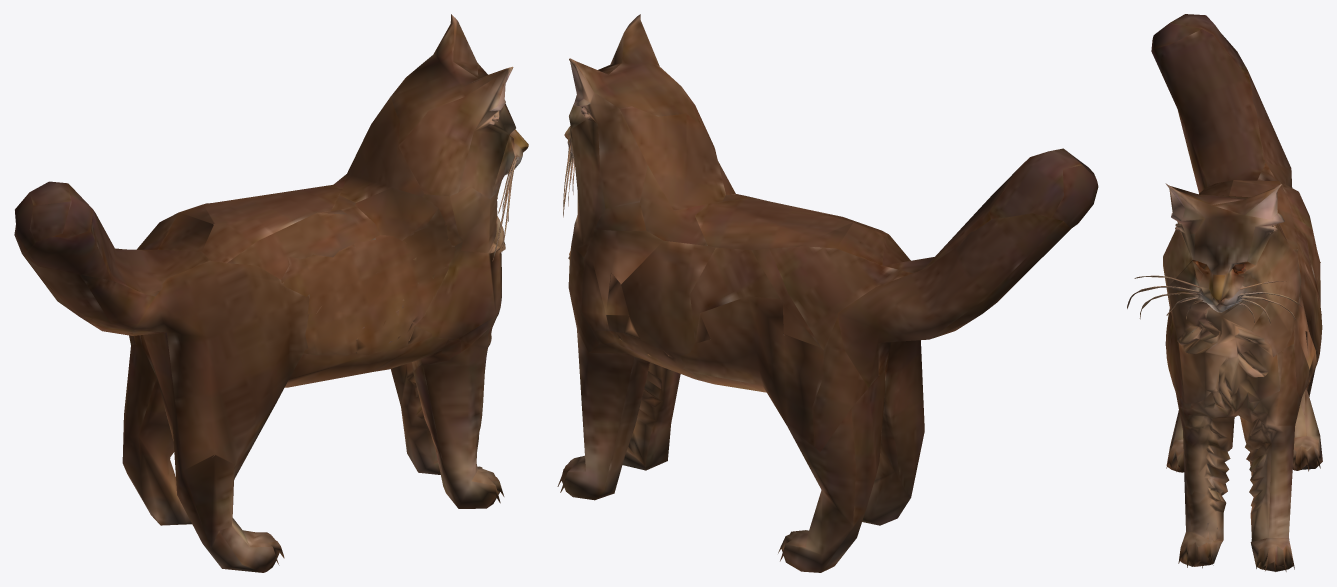
Rendered from MRSNORRCAT-lo.glb.
3 views of the same model, side by side, from view 1: azimuth 30°, elevation 25°; view 2: azimuth 150°, elevation 25°; view 3: azimuth 270°, elevation 25° (orthographic). The views are drawn at different scales.
Parts seen in each view (by area): view 1: material; view 2: material; view 3: material.
Part boxes in pixels (box(x1,y1,x2,y2)): material: box(14, 14, 528, 572); material: box(557, 14, 1098, 572); material: box(1127, 14, 1322, 571).
Bounding box in the file's own units: 1.23 × 0.9972 × 0.4546.
Materials: 1 (1 with a texture image).
